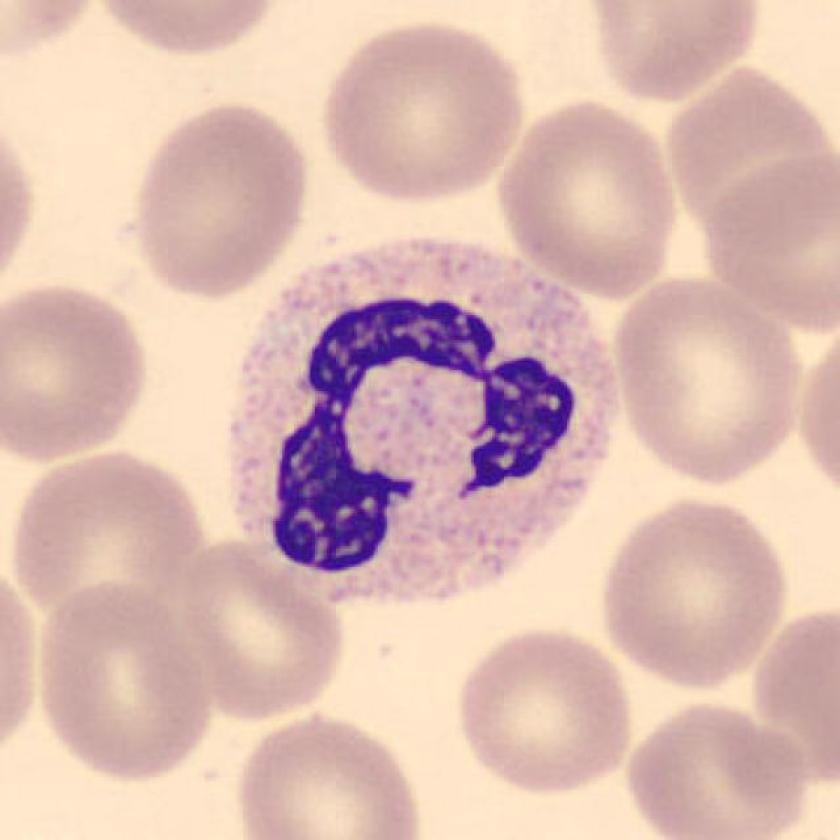neutrophil: (224, 236, 617, 601)
